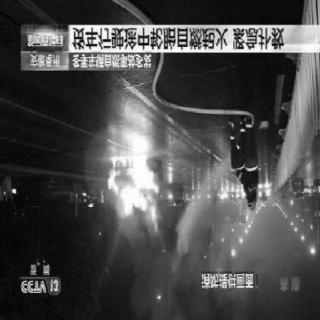Fire: (108, 140, 170, 232)
